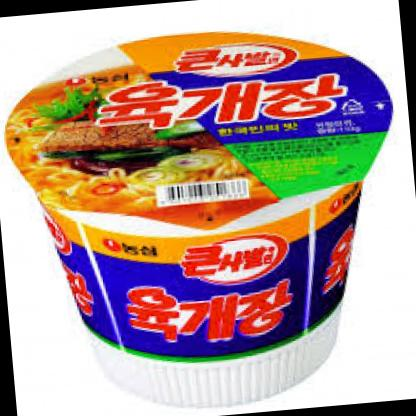Ramen: (5, 15, 411, 416)
